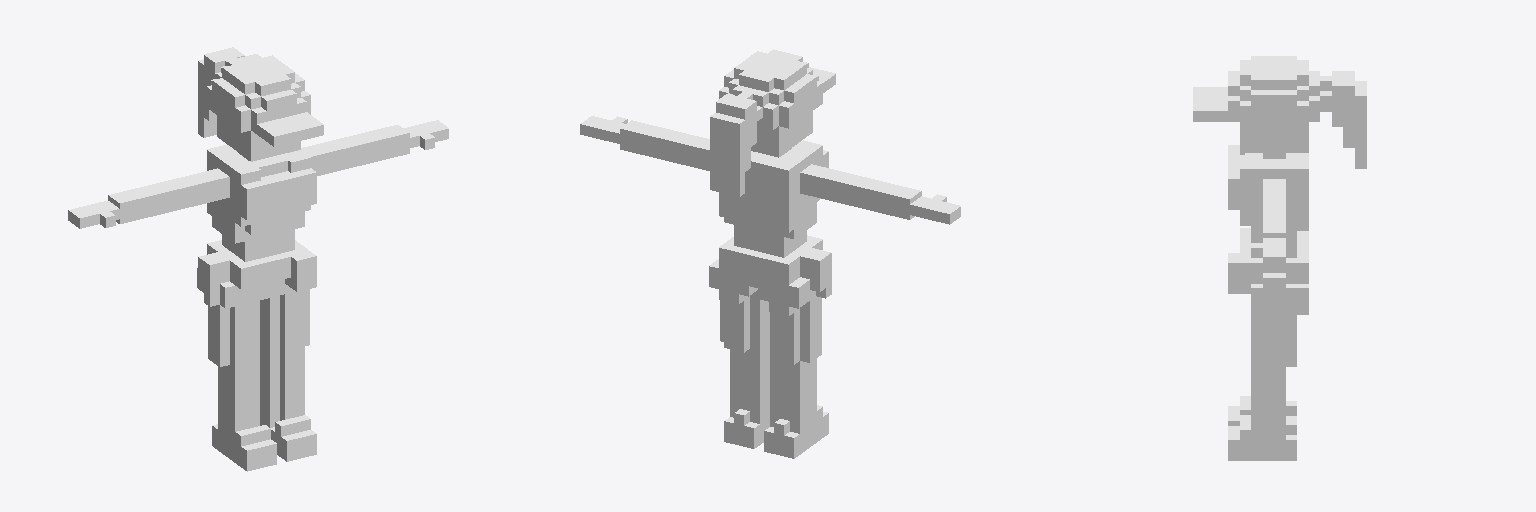
File: Character-5.obj
3 views of the same model, side by side, from view 1: azimuth 30°, elevation 25°; view 2: azimuth 150°, elevation 25°; view 3: azimuth 270°, elevation 25° (orthographic).
Parts seen in each view (by area): view 1: object 1; view 2: object 1; view 3: object 1.
Part boxes in pixels (left/top/right/bottom): object 1: left=68, top=47, right=448, bottom=471; object 1: left=580, top=49, right=960, bottom=458; object 1: left=1193, top=56, right=1366, bottom=460.
Size of the model in its own units: 7.4 by 7.2 by 3.